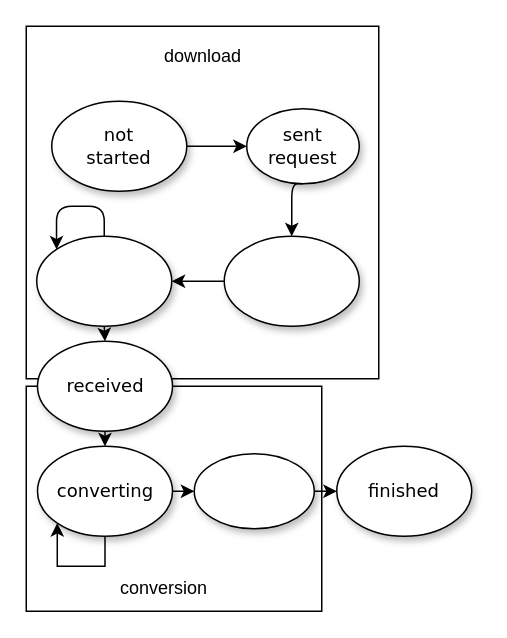
This 507x638 diagram has some shape labels left out. Here are the shapes that lost their labels. From the top down, the centre of each, then its label:
At (105,283): "reading response".
At (292,283): "got response".
At (255,492): "converted".
